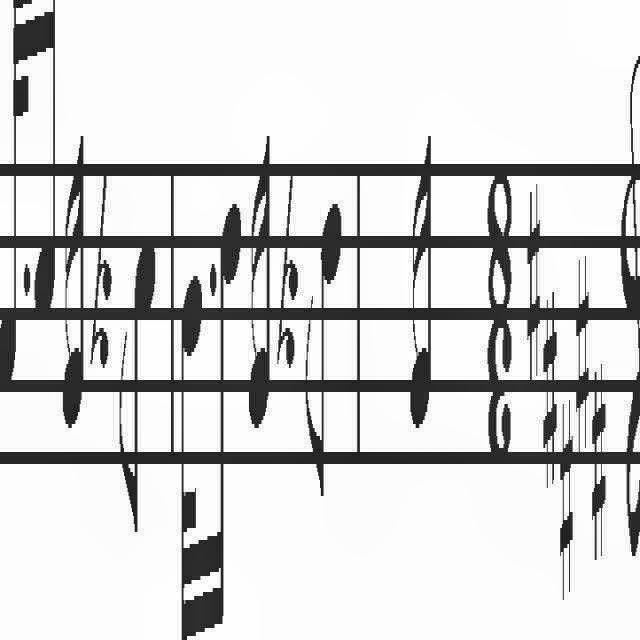Bass-clef: (619, 52, 640, 572), (639, 52, 640, 572)
Diez: (524, 176, 542, 388), (542, 285, 558, 491), (558, 400, 574, 600), (574, 254, 590, 453), (590, 358, 606, 556)
Eighth-note: (119, 232, 158, 544), (304, 197, 344, 499)
Sixteenth-note: (218, 197, 242, 636), (409, 119, 435, 438), (248, 115, 272, 441), (32, 0, 56, 324), (62, 130, 86, 434)
